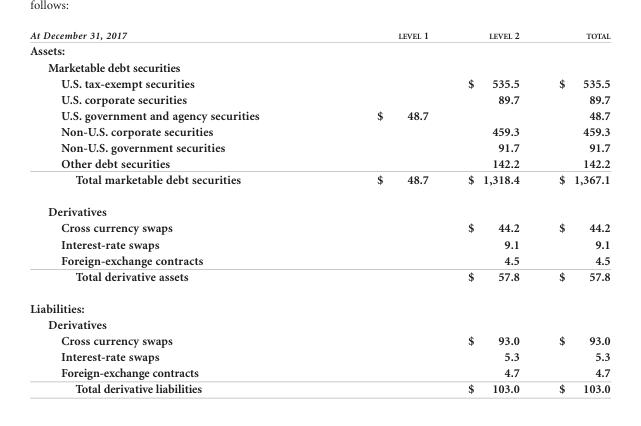table: (29, 29, 609, 395)
table column: (29, 29, 317, 395), (317, 29, 447, 395), (447, 29, 538, 395), (538, 29, 609, 395)
table column header: (29, 29, 609, 42)
table projected row header: (29, 195, 609, 219), (29, 292, 609, 316), (29, 58, 609, 75), (29, 42, 609, 58), (29, 316, 609, 332)
table row: (29, 171, 609, 195), (29, 195, 609, 219), (29, 268, 609, 292), (29, 292, 609, 316), (29, 58, 609, 75), (29, 235, 609, 252), (29, 42, 609, 58), (29, 75, 609, 91), (29, 91, 609, 107), (29, 107, 609, 123), (29, 123, 609, 139), (29, 139, 609, 155), (29, 155, 609, 171), (29, 219, 609, 235), (29, 252, 609, 268), (29, 316, 609, 332), (29, 332, 609, 348), (29, 348, 609, 364), (29, 364, 609, 380), (29, 380, 609, 395), (29, 29, 609, 42)
